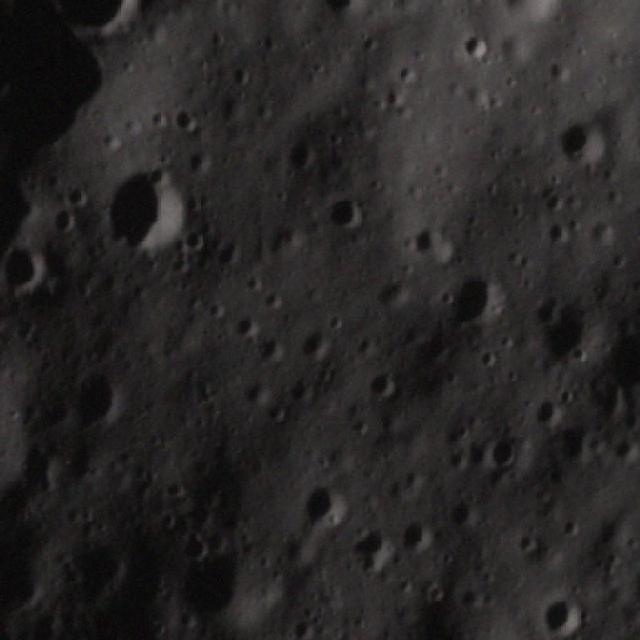crater: (168, 533, 262, 622), (0, 509, 55, 625), (110, 174, 188, 252), (70, 372, 136, 431), (447, 272, 510, 322), (45, 0, 143, 32), (0, 238, 58, 292), (298, 481, 359, 530), (552, 121, 603, 168), (361, 362, 408, 413), (479, 429, 526, 477), (537, 595, 586, 634), (322, 192, 361, 237), (309, 0, 371, 23), (256, 330, 290, 364), (460, 33, 492, 67), (230, 306, 262, 337)
